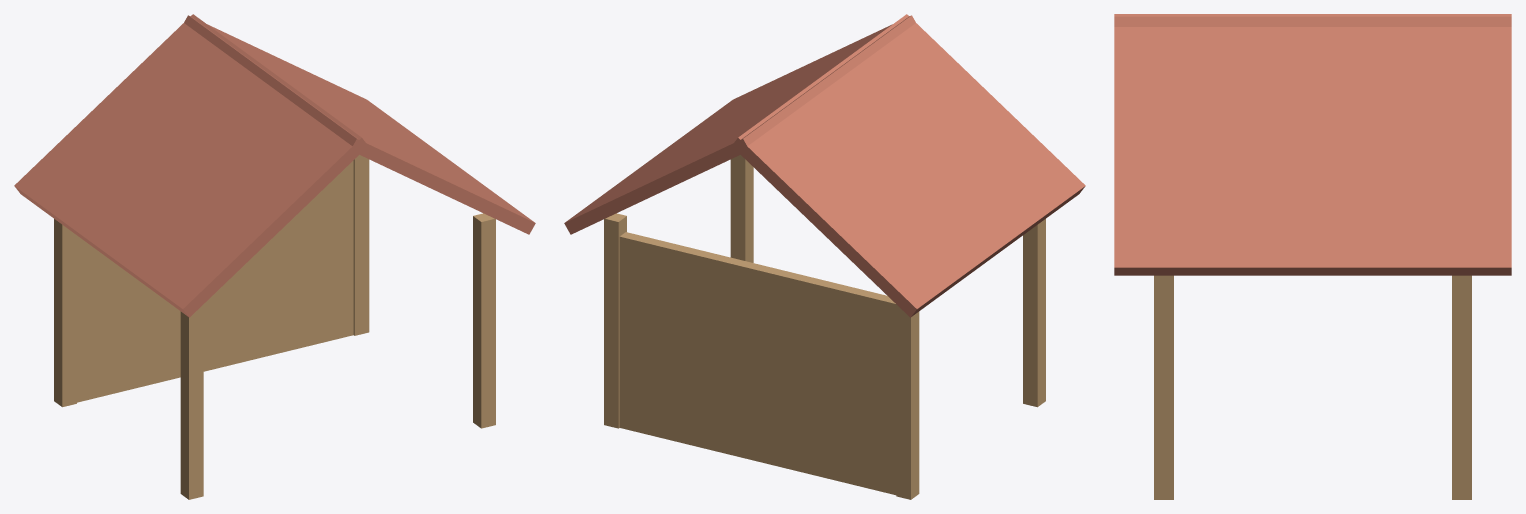
Rendered from cozy-farm-and-homestead-open-equipment-shed-3565b36b__19370.glb.
The picture shows the model from 3 angles, left to right: view 1: azimuth 30°, elevation 25°; view 2: azimuth 150°, elevation 25°; view 3: azimuth 270°, elevation 25°; orthographic projection. The views are drawn at different scales.
Visible parts, largest first — view 1: open-equipment-shed; view 2: open-equipment-shed; view 3: open-equipment-shed.
Boxes of the visible parts, left/top/right/bottom form: open-equipment-shed: left=14, top=14, right=535, bottom=499; open-equipment-shed: left=564, top=14, right=1085, bottom=499; open-equipment-shed: left=1114, top=14, right=1511, bottom=499.
Size of the model in its own units: 4.83 by 4.4 by 4.
